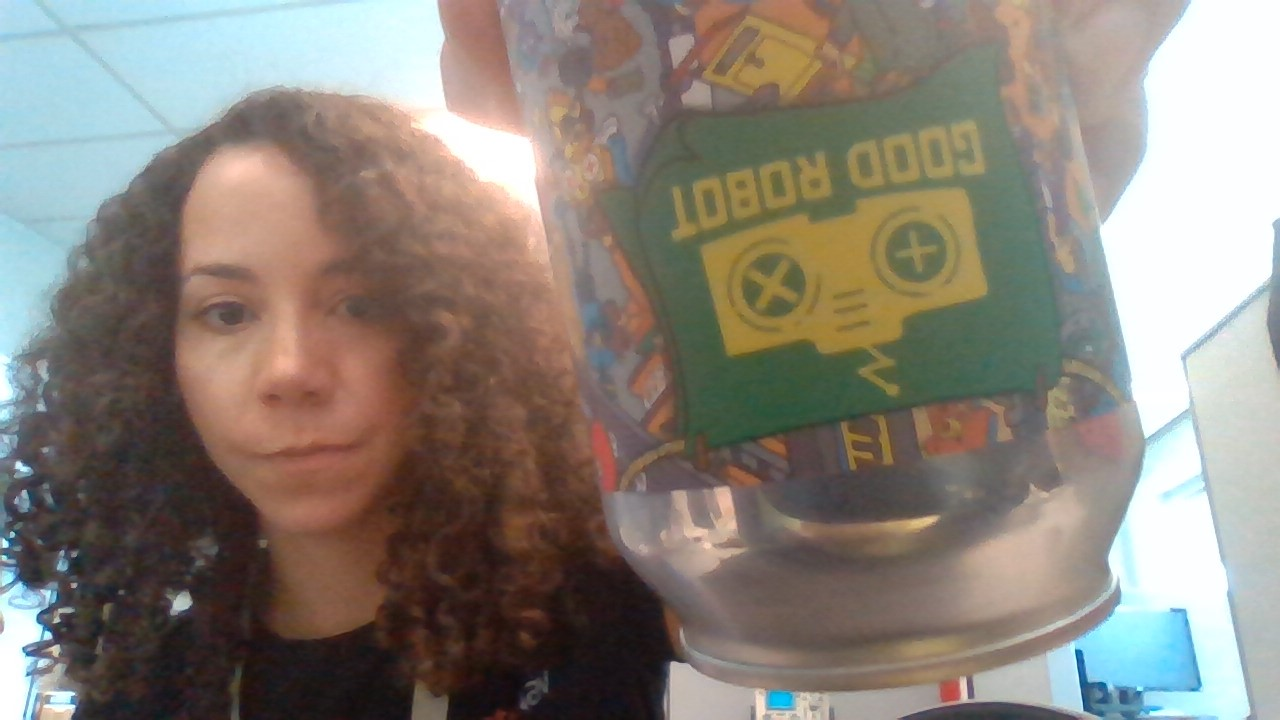Good Robot: (698, 183, 993, 399)
